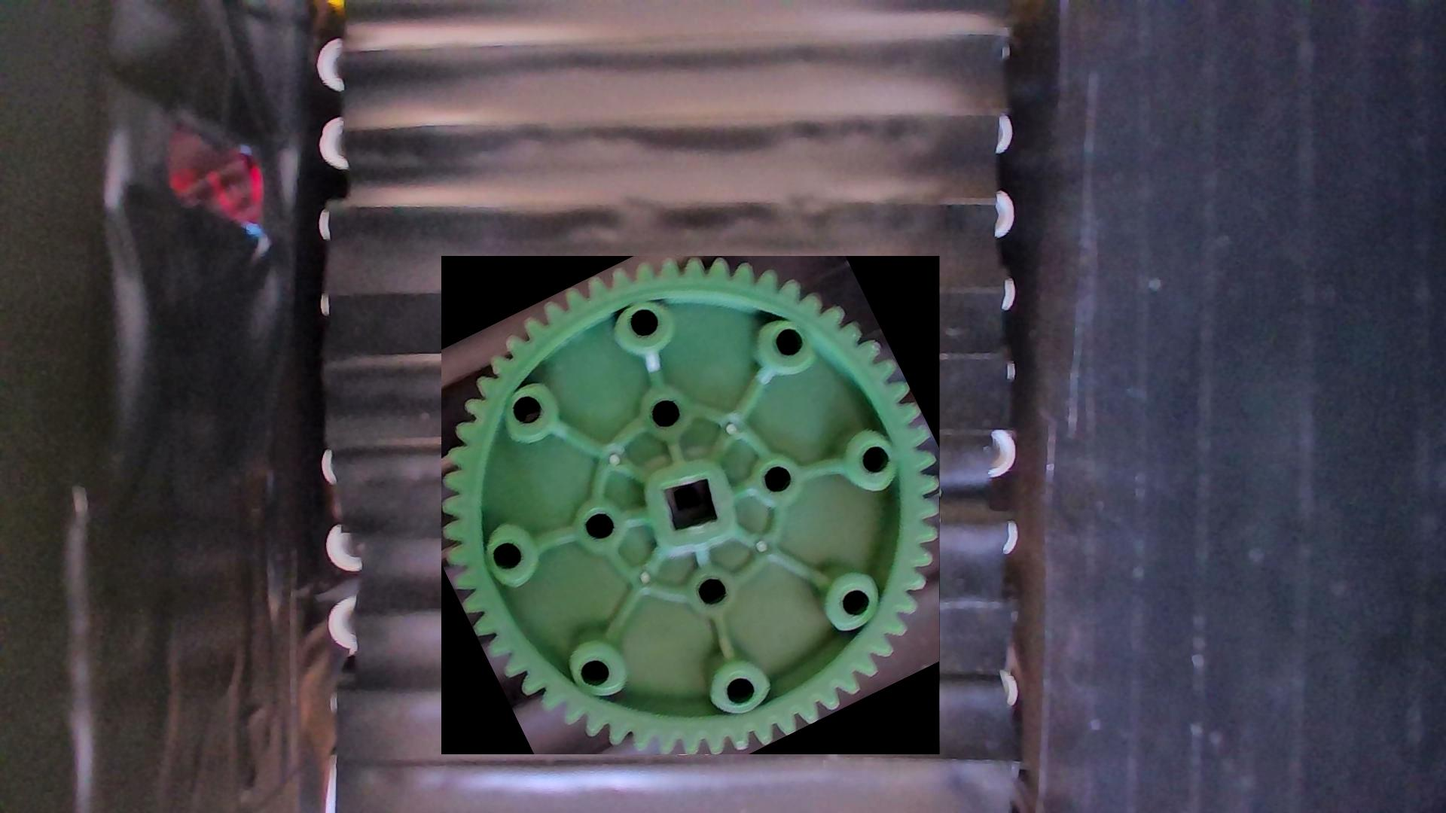gear: (442, 256, 941, 754)
